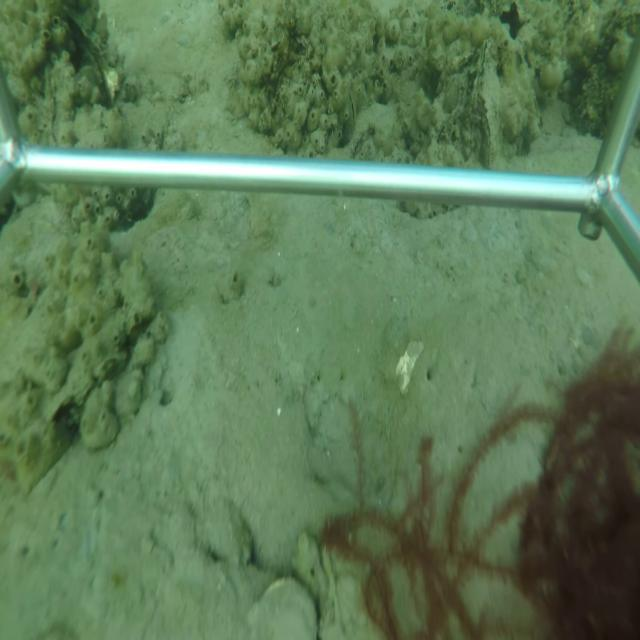Oyster-Closed: (60, 13, 116, 109), (465, 39, 495, 162), (477, 81, 505, 166)
Oyster-Indeterminate: (248, 575, 322, 640)
